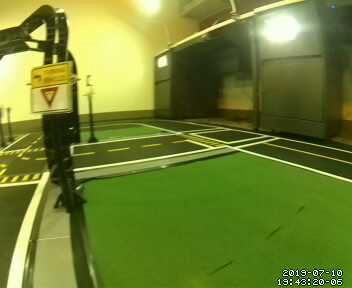Turn Yield: (29, 63, 73, 114)
